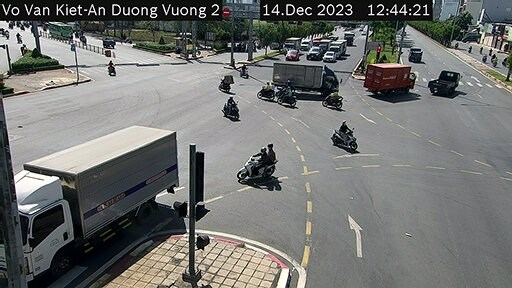bus: (286, 49, 302, 64)
car: (307, 43, 323, 62), (408, 45, 423, 62), (325, 47, 340, 64)
motorbike: (243, 142, 275, 195), (322, 118, 366, 150), (217, 100, 245, 122), (212, 75, 237, 95), (321, 91, 340, 112), (256, 83, 279, 100), (278, 87, 297, 104), (98, 63, 127, 73), (239, 67, 261, 80), (100, 37, 116, 50)
truck: (7, 128, 183, 249), (267, 59, 343, 99), (362, 61, 418, 96), (434, 67, 467, 98)
